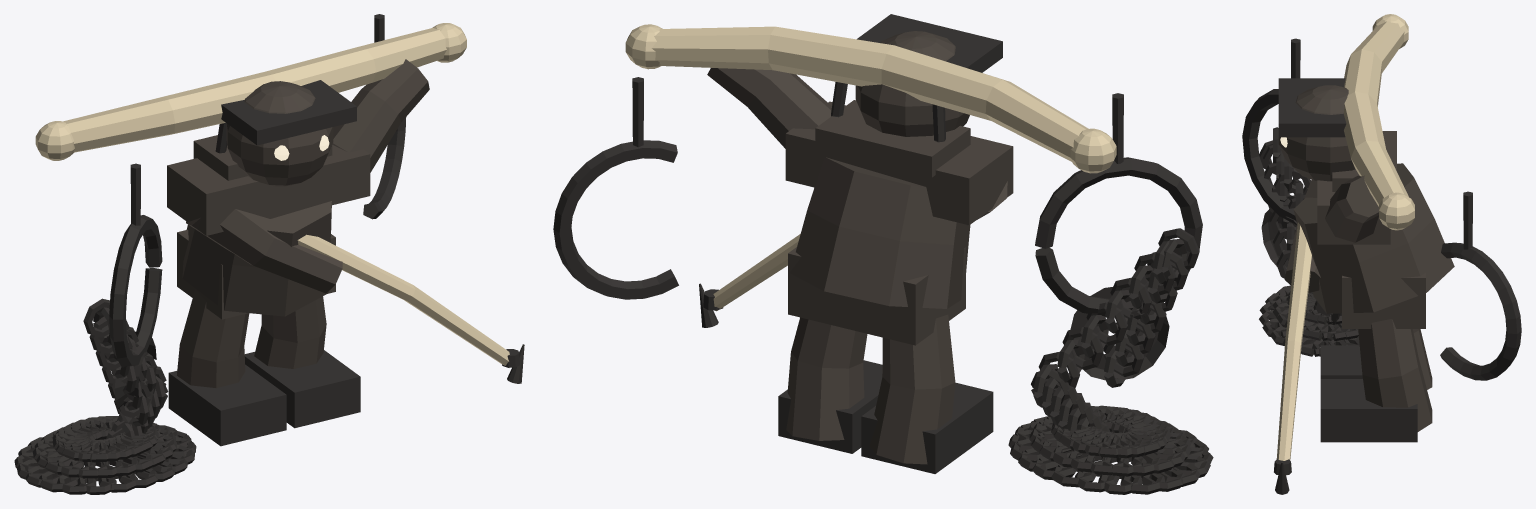
File: drover.glb
3 views of the same model, side by side, from view 1: azimuth 30°, elevation 25°; view 2: azimuth 150°, elevation 25°; view 3: azimuth 270°, elevation 25° (orthographic). The views are drawn at different scales.
Parts seen in each view (by area): view 1: drover_body, drover_dark, drover_bone; view 2: drover_body, drover_dark, drover_bone; view 3: drover_body, drover_dark, drover_bone.
Boxes of the visible parts, left/top/right/bottom form: drover_body: left=167, top=59, right=429, bottom=387; drover_dark: left=14, top=14, right=524, bottom=494; drover_bone: left=35, top=23, right=509, bottom=367; drover_body: left=707, top=31, right=1013, bottom=464; drover_dark: left=553, top=14, right=1213, bottom=494; drover_bone: left=625, top=24, right=1116, bottom=311; drover_body: left=1278, top=85, right=1454, bottom=431; drover_dark: left=1242, top=38, right=1521, bottom=494; drover_bone: left=1276, top=14, right=1414, bottom=460.
Size of the model in its own units: 3.59 by 2.44 by 1.94.
